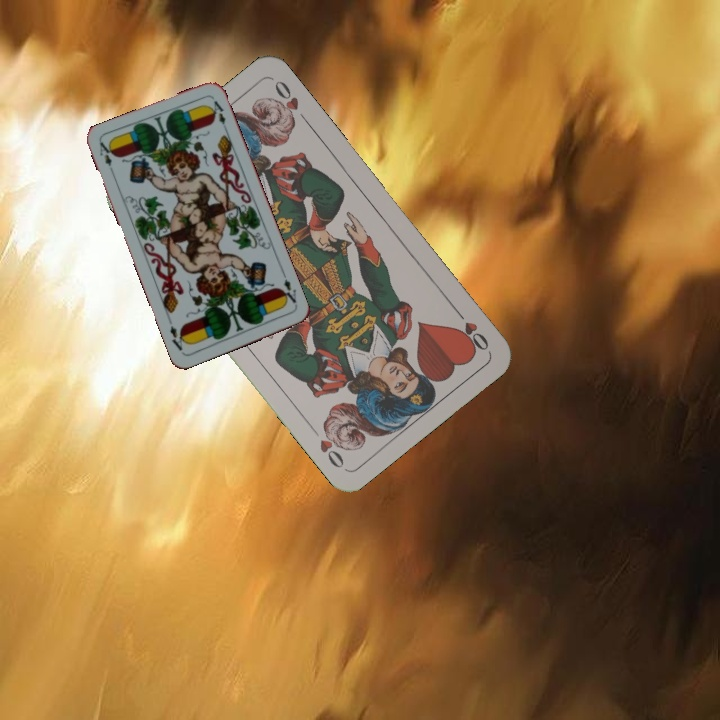EA: (95, 138, 117, 178), (276, 270, 299, 307)
HO: (450, 303, 492, 354)
